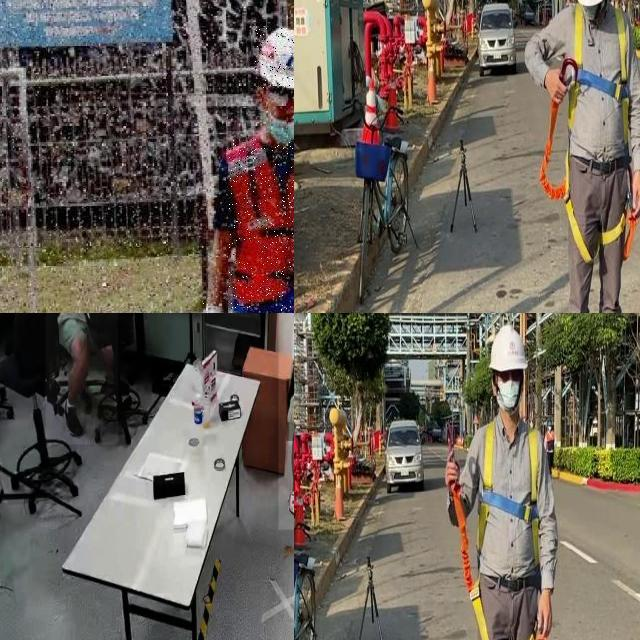Harness: (540, 103, 638, 264), (560, 4, 630, 142), (479, 421, 541, 566), (450, 486, 492, 640)
hand_glove: (286, 378, 294, 441)
head_helmet: (254, 27, 294, 88)
person: (45, 313, 118, 445)
vest: (228, 139, 294, 313)
